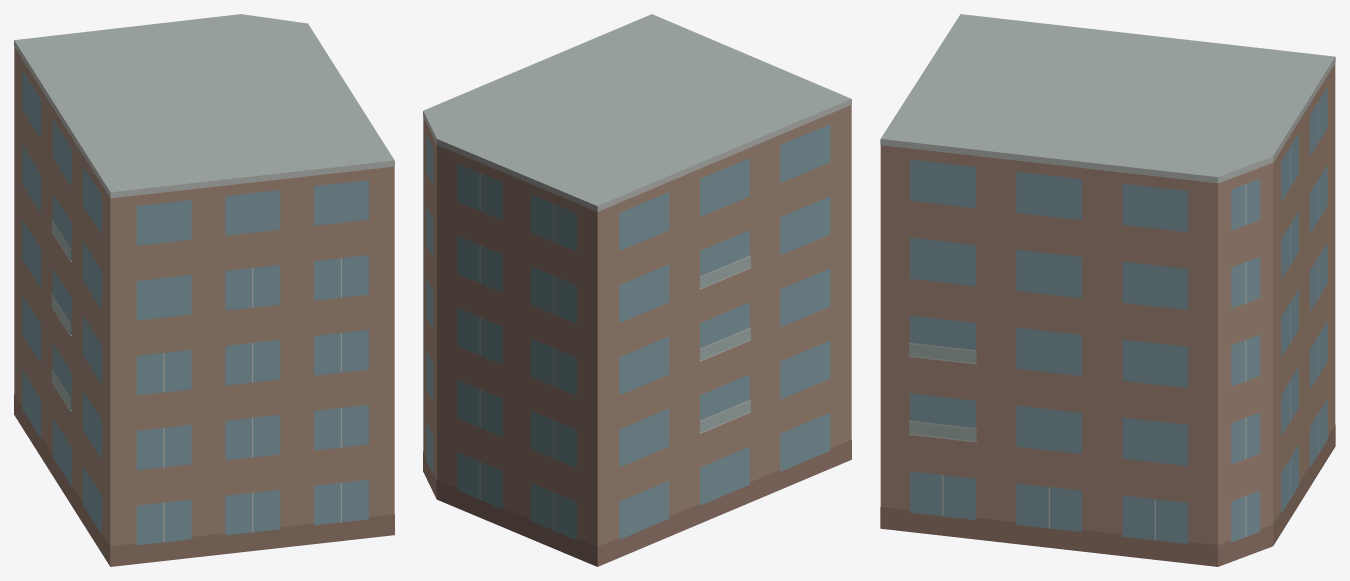
File: survey-upis-32598758.glb
3 views of the same model, side by side, from view 1: azimuth 30°, elevation 25°; view 2: azimuth 150°, elevation 25°; view 3: azimuth 270°, elevation 25° (orthographic). The views are drawn at different scales.
Visible parts, largest first — view 1: survey-upis-32598758.tmp; view 2: survey-upis-32598758.tmp; view 3: survey-upis-32598758.tmp.
Boxes of the visible parts, x1,y1,x2,y2 form: survey-upis-32598758.tmp: [14, 14, 394, 566]; survey-upis-32598758.tmp: [423, 14, 851, 566]; survey-upis-32598758.tmp: [880, 14, 1335, 566].
Bounding box in the file's own units: 13.7 × 15.25 × 16.15.
